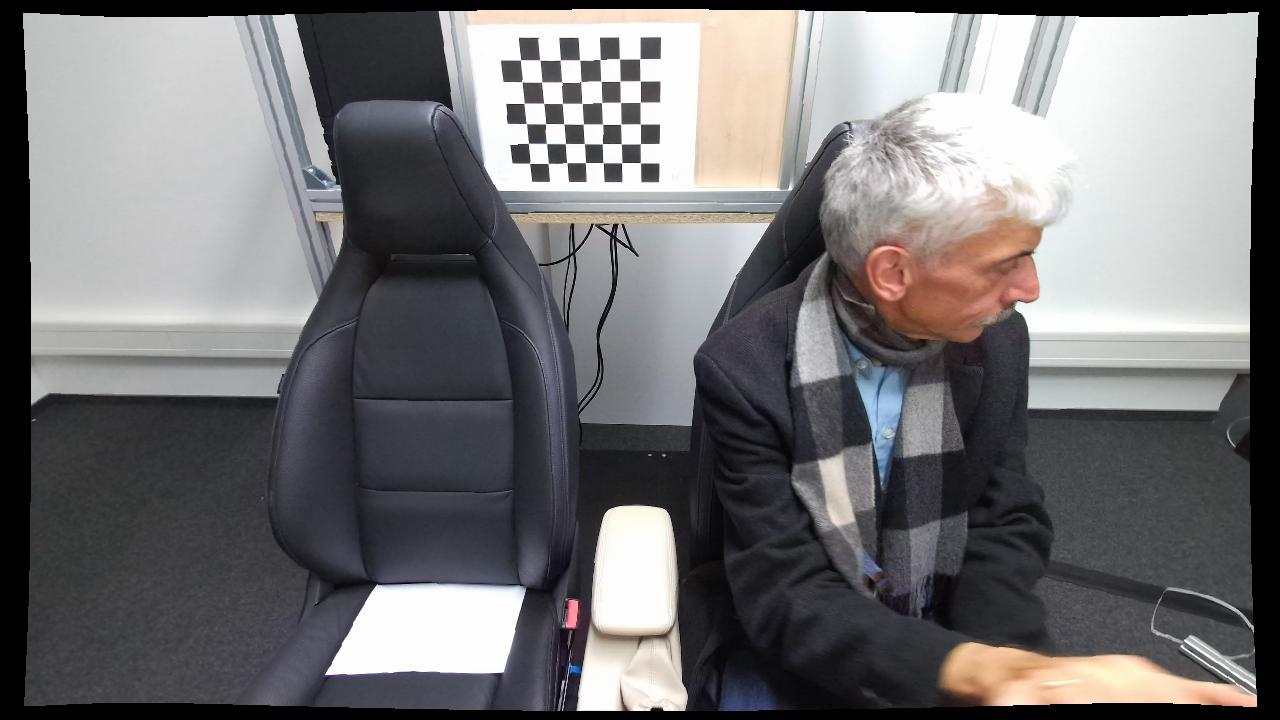Distracted: (692, 84, 1089, 712)
